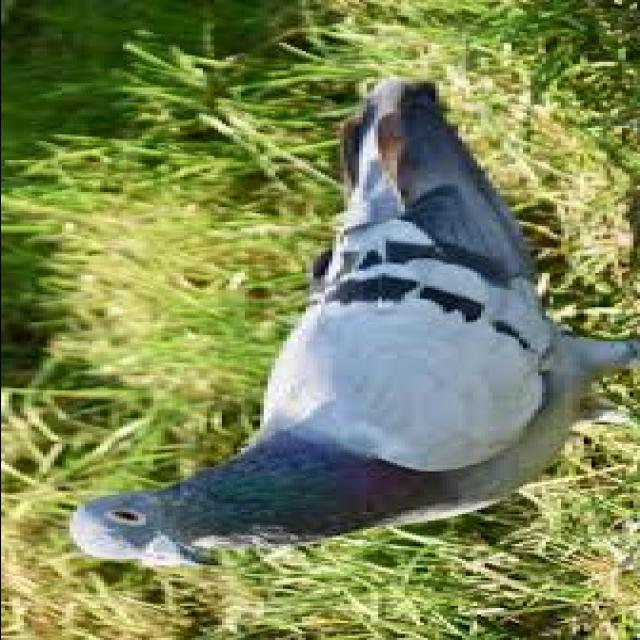pigeon: (70, 67, 628, 580)
